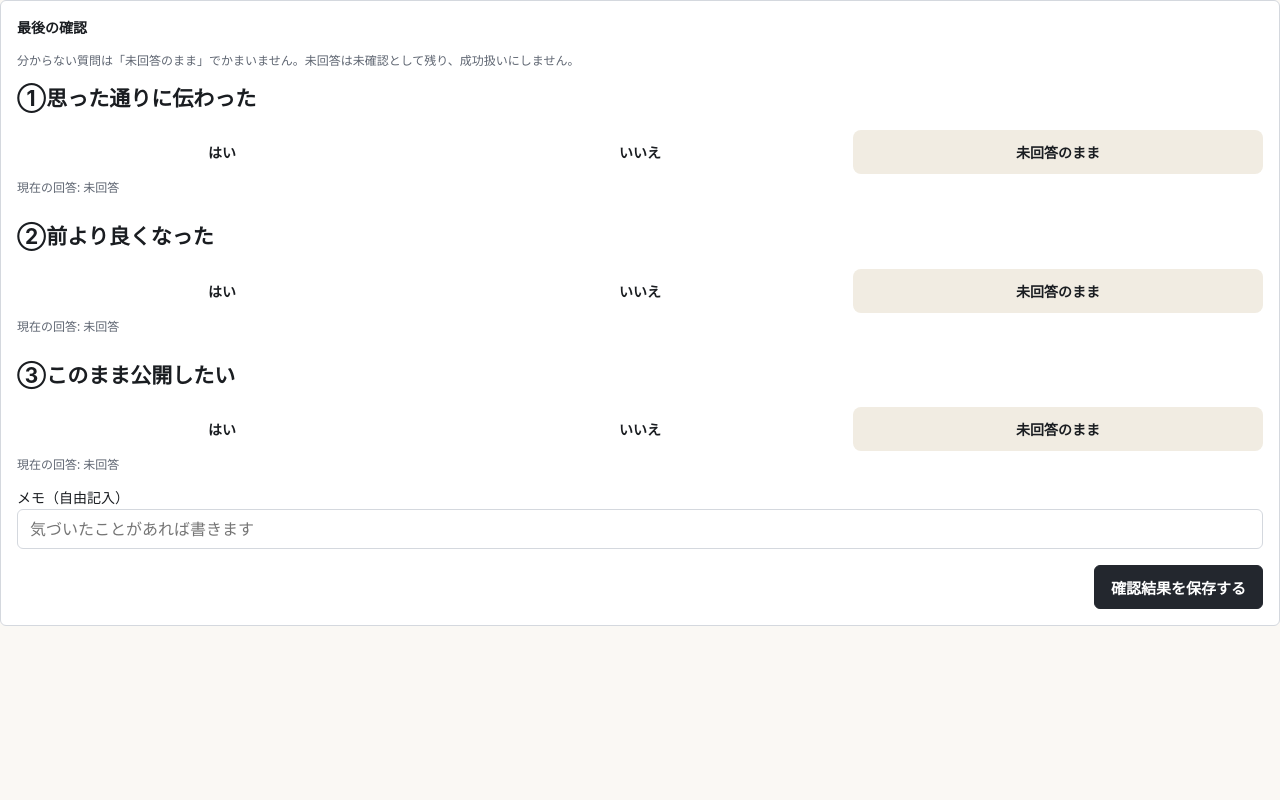
Test case: SelfCheckSection — 送信形状（未回答nullを含む） › はい・いいえ・未回答の混在とメモをそのまま送る
The width and height of the screenshot is (1280, 800).
expect the button with test id "self-check-submit" is shown: met, box [1094,565,1263,609]
Click the button with test id "self-check-q1-yes" at (222, 152), box [17,130,427,174]
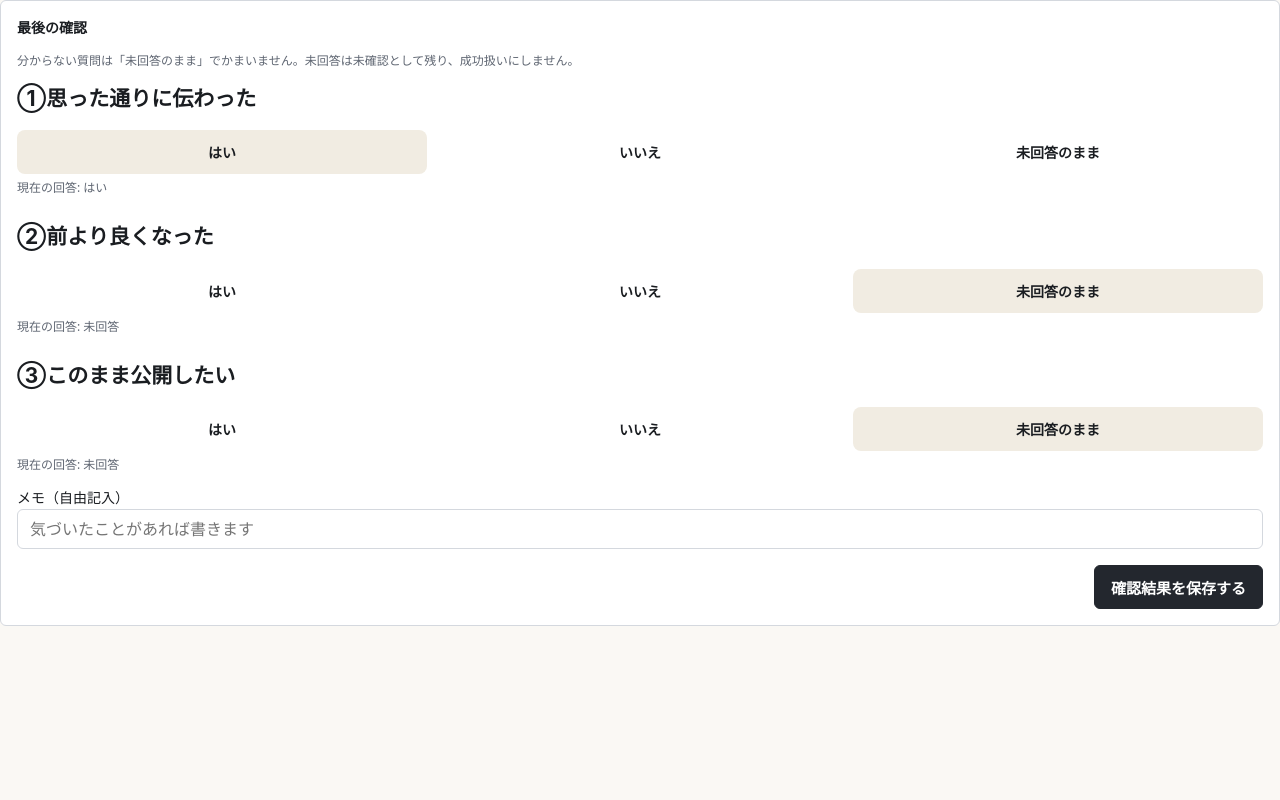
Click the button with test id "self-check-q2-no" at (640, 291), box [435,269,845,313]
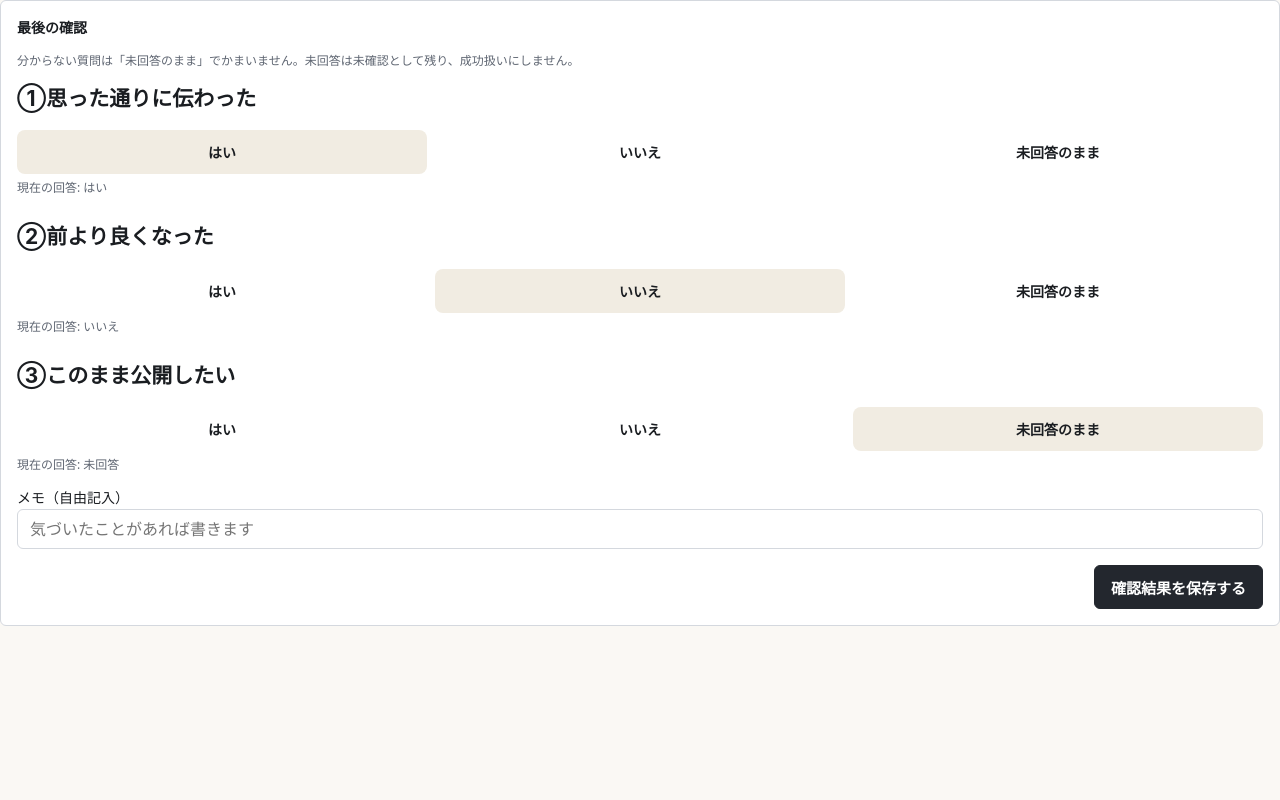
Type "字幕だけ気になる" into the field with test id "self-check-note" at (640, 529), box [17,509,1263,549]
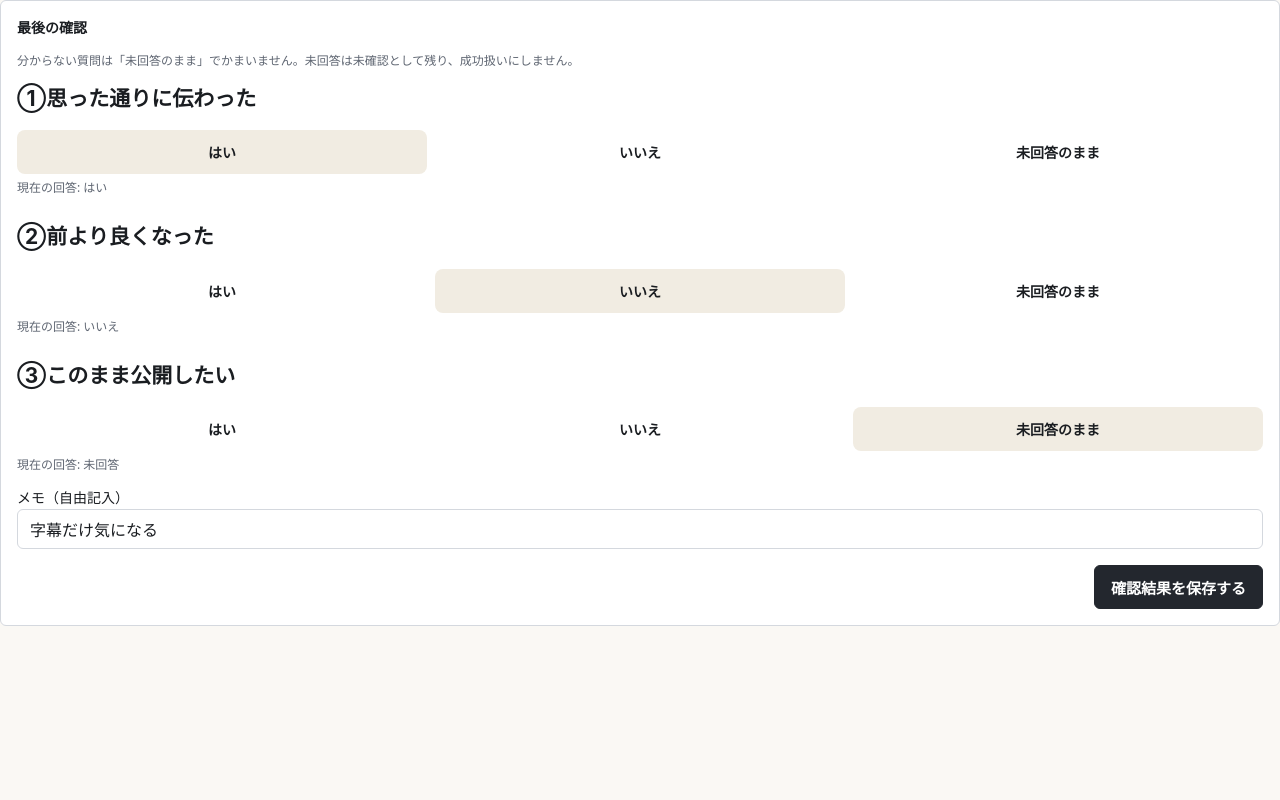
Click the button with test id "self-check-submit" at (1178, 587), box [1094,565,1263,609]
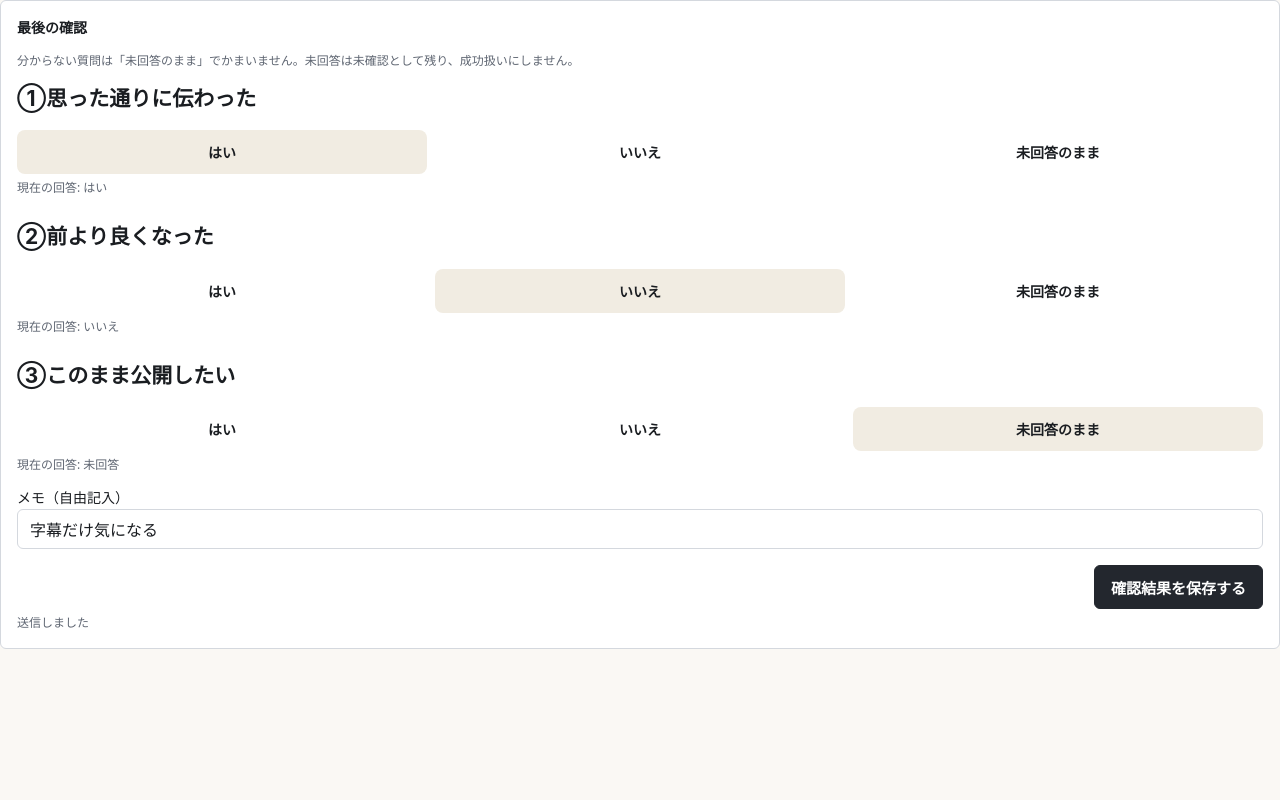
expect the text with test id "self-check-sent" reads "送信しました": met, box [17,614,89,631]
